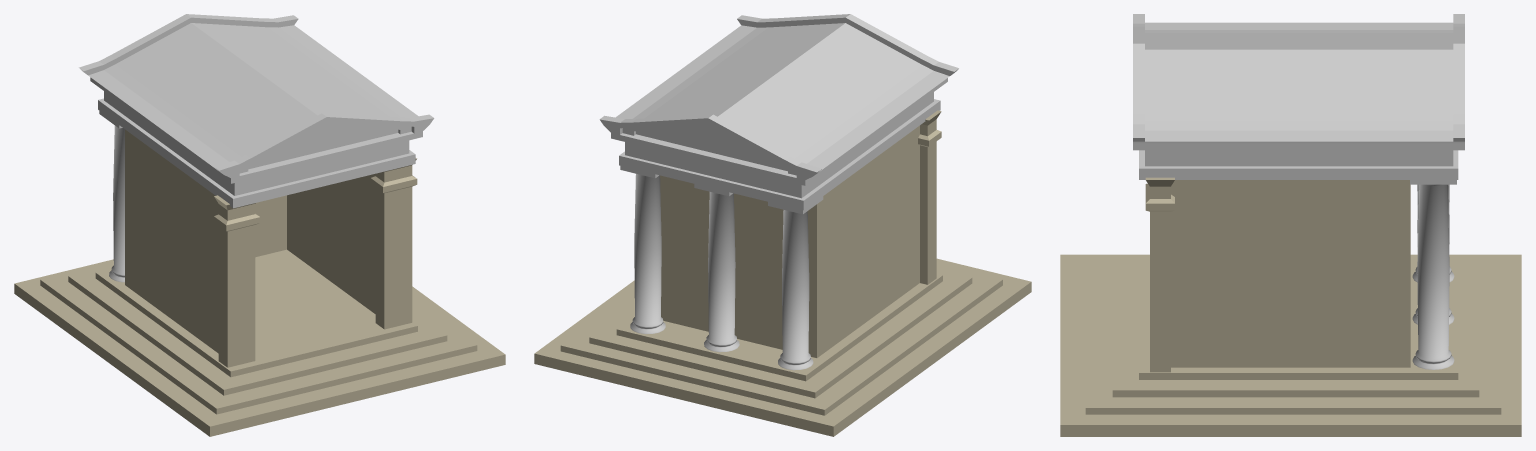
File: budynek001.fbx
The picture shows the model from 3 angles, left to right: view 1: azimuth 30°, elevation 25°; view 2: azimuth 150°, elevation 25°; view 3: azimuth 270°, elevation 25°; orthographic projection. The views are drawn at different scales.
Visible parts, largest first — view 1: Plane.007, Plane.011, Circle.623_Circle.000; view 2: Plane.007, Plane.011, Circle.623_Circle.000, Circle.623_Circle.032, Circle.623_Circle.001; view 3: Plane.007, Plane.011, Circle.623_Circle.032.
Boxes of the visible parts, x1,y1,x2,y2 form: Plane.007: (14, 129, 505, 436); Plane.011: (79, 14, 434, 208); Circle.623_Circle.000: (99, 111, 124, 282); Plane.007: (534, 110, 1031, 436); Plane.011: (599, 14, 958, 210); Circle.623_Circle.000: (768, 196, 823, 370); Circle.623_Circle.032: (620, 166, 665, 333); Circle.623_Circle.001: (694, 184, 739, 352); Plane.007: (1060, 177, 1521, 436); Plane.011: (1133, 14, 1464, 179); Circle.623_Circle.032: (1410, 180, 1456, 369).
Bounding box in the file's own units: 5.48 × 4.63 × 6.28.
